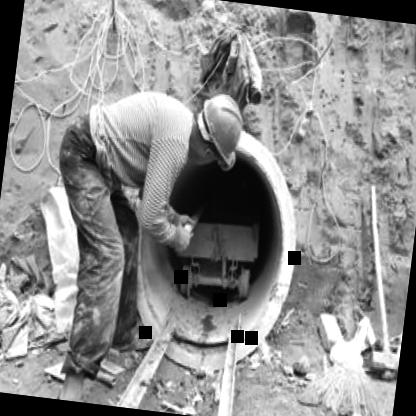helmet: (182, 83, 252, 180)
